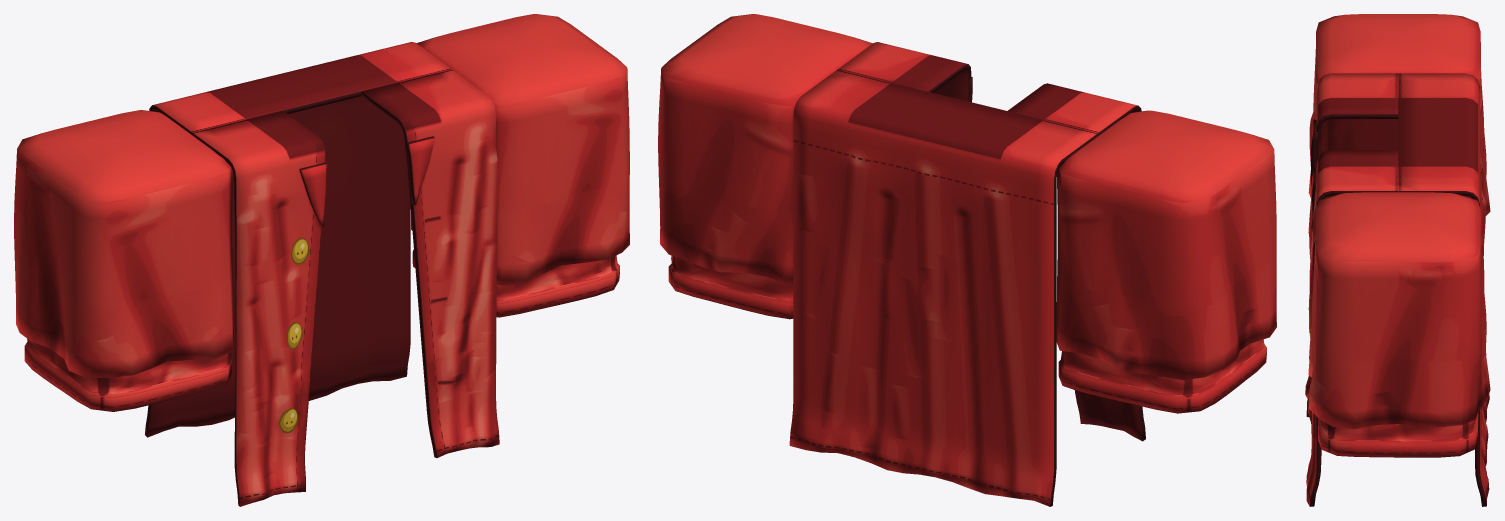
File: chemise_luffy.fbx
3 renders of one model, left to right at view 1: azimuth 30°, elevation 25°; view 2: azimuth 150°, elevation 25°; view 3: azimuth 270°, elevation 25°, orthographic. The views are drawn at different scales.
Visible parts, largest first — view 1: Vet_UpperTorso_Chemise, Vet_RightUpperArm_Manche, Vet_LeftUpperArm_Manche, Vet_RightLowerArm_Poignet, Vet_LeftLowerArm_Poignet; view 2: Vet_UpperTorso_Chemise, Vet_RightUpperArm_Manche, Vet_LeftUpperArm_Manche, Vet_RightLowerArm_Poignet, Vet_LeftLowerArm_Poignet; view 3: Vet_LeftUpperArm_Manche, Vet_UpperTorso_Chemise, Vet_RightUpperArm_Manche, Vet_LeftLowerArm_Poignet.
Boxes of the visible parts, left/top/right/bottom form: Vet_UpperTorso_Chemise: left=145, top=42, right=499, bottom=506; Vet_RightUpperArm_Manche: left=14, top=110, right=233, bottom=377; Vet_LeftUpperArm_Manche: left=411, top=14, right=629, bottom=285; Vet_RightLowerArm_Poignet: left=24, top=338, right=231, bottom=411; Vet_LeftLowerArm_Poignet: left=412, top=249, right=619, bottom=317; Vet_UpperTorso_Chemise: left=789, top=42, right=1145, bottom=506; Vet_RightUpperArm_Manche: left=1056, top=110, right=1276, bottom=379; Vet_LeftUpperArm_Manche: left=658, top=14, right=872, bottom=284; Vet_RightLowerArm_Poignet: left=1058, top=339, right=1266, bottom=413; Vet_LeftLowerArm_Poignet: left=668, top=255, right=793, bottom=319; Vet_LeftUpperArm_Manche: left=1308, top=192, right=1490, bottom=429; Vet_UpperTorso_Chemise: left=1305, top=73, right=1489, bottom=506; Vet_RightUpperArm_Manche: left=1308, top=14, right=1490, bottom=233; Vet_LeftLowerArm_Poignet: left=1318, top=412, right=1478, bottom=457.
Size of the model in its own units: 4.26 by 2.55 by 1.32.
Materials: 1 (1 with a texture image).
